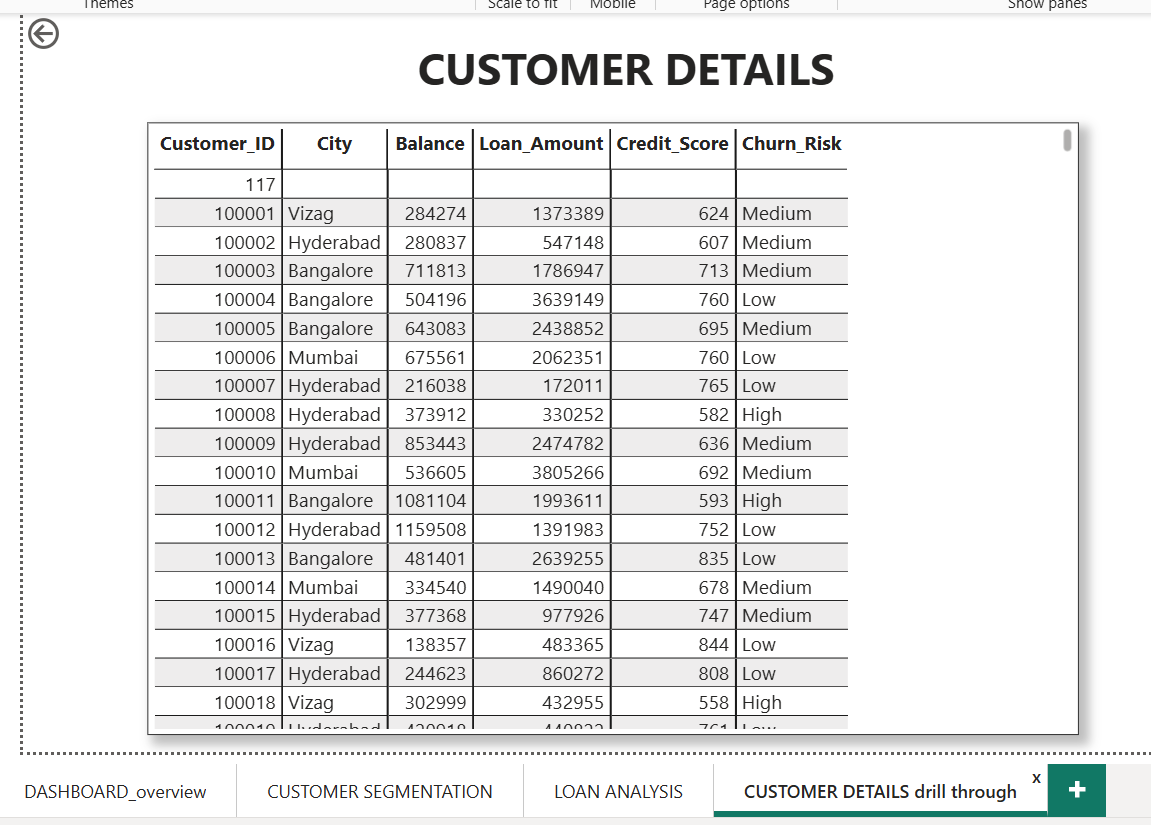

What the dashboard file says about the page in this screenshot:
{"tool":"powerbi","page":{"name":"CUSTOMER DETAILS drill through","canvas":[1280,720],"ordinal":3},"visuals":[{"type":"tableEx","fields":{"Values":["banking_customer_data_clean.Customer_ID","banking_customer_data_clean.City","banking_customer_data_clean.Balance","banking_customer_data_clean.Loan_Amount","banking_customer_data_clean.Credit_Score","banking_customer_data_clean.Churn_Risk"]},"box":[121.1,106,907,596.6],"z":0},{"type":"actionButton","box":[0,0,100,40],"z":1000},{"type":"textbox","box":[121.1,19.7,932.8,71.2],"z":2000}]}

Visuals, with their boxes on the page's 1280x720 design canvas (x1, y1, x2, y2). These are canvas units, not pixel positions in the 1151x825 screenshot, which may show the page scaled, cropped or inside an application window:
tableEx - banking_customer_data_clean.Customer_ID x banking_customer_data_clean.City: select_region(121, 106, 1028, 703)
actionButton: select_region(0, 0, 100, 40)
textbox: select_region(121, 20, 1054, 91)
